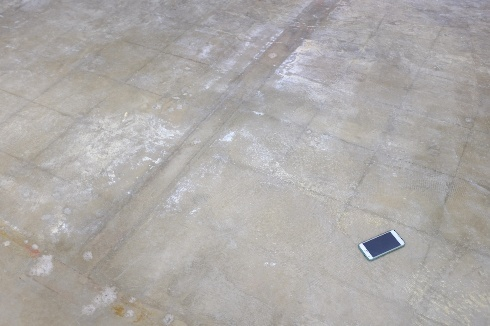phone: (358, 227, 407, 259)
